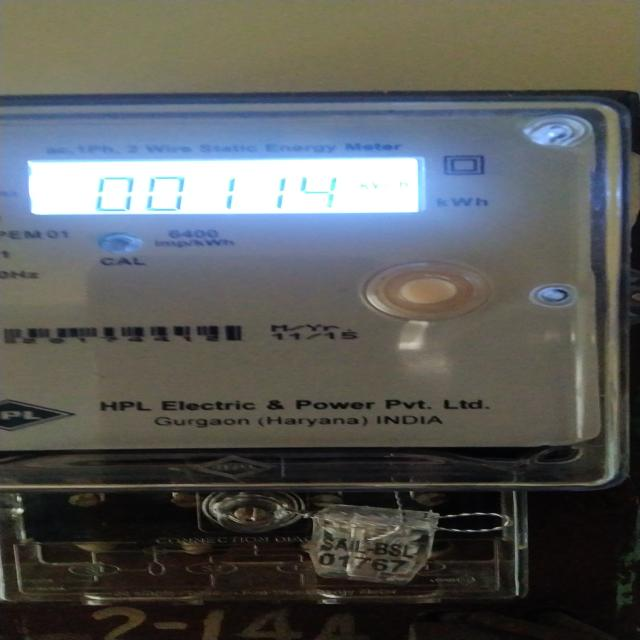display: (14, 154, 444, 222)
